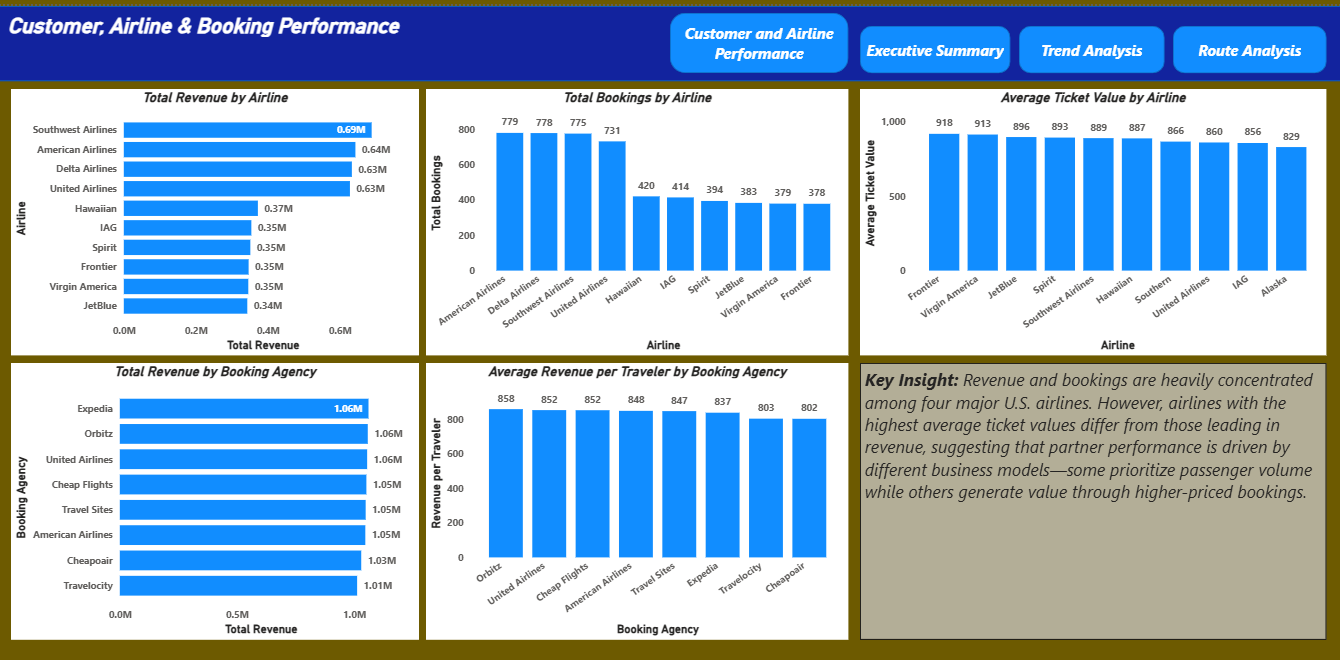

The page's visual inventory and layout, read from the dashboard file:
{"tool":"powerbi","page":{"name":"Customer, Airline and Booking Performance","canvas":[1680,1280],"ordinal":3},"visuals":[{"type":"shape","box":[0,0,1680,94],"z":0},{"type":"textbox","title":"Customer, Airline & Booking Performance","box":[8,9,613,75],"z":1000},{"type":"barChart","fields":{"Category":["Flights.Airline"],"Y":["Measures (2).Total Revenue"]},"box":[16,104,510,333],"z":2000},{"type":"columnChart","fields":{"Category":["Flights.Airline"],"Y":["Measures (2).Total Bookings"]},"box":[535,104,528,333],"z":3000},{"type":"columnChart","fields":{"Category":["Flights.Airline"],"Y":["Measures (2).Average Ticket Value"]},"box":[1078,104,583,333],"z":4000},{"type":"textbox","box":[1078,446,583,346],"z":5000},{"type":"barChart","fields":{"Category":["Flights.Booking Agency"],"Y":["Measures (2).Total Revenue"]},"box":[16,446,510,346],"z":6000},{"type":"columnChart","title":"Average Revenue per Traveler by Booking Agency","fields":{"Category":["Flights.Booking Agency"],"Y":["Measures (2).Revenue per Traveler"]},"box":[535,446,528,346],"z":7000},{"type":"shape","box":[840,9,223,75],"z":11001},{"type":"shape","box":[1078,25,188,59],"z":11002},{"type":"shape","box":[1276,25,182,59],"z":11003},{"type":"shape","box":[1469,25,192,59],"z":11004}]}

Visuals, with their boxes on the page's 1680x1280 design canvas (x1, y1, x2, y2). These are canvas units, not pixel positions in the 1340x660 screenshot, which may show the page scaled, cropped or inside an application window:
shape: (x1=0, y1=0, x2=1680, y2=94)
"Customer, Airline & Booking Performance" textbox: (x1=8, y1=9, x2=621, y2=84)
barChart - Flights.Airline x Measures (2).Total Revenue: (x1=16, y1=104, x2=526, y2=437)
columnChart - Flights.Airline x Measures (2).Total Bookings: (x1=535, y1=104, x2=1063, y2=437)
columnChart - Flights.Airline x Measures (2).Average Ticket Value: (x1=1078, y1=104, x2=1661, y2=437)
textbox: (x1=1078, y1=446, x2=1661, y2=792)
barChart - Flights.Booking Agency x Measures (2).Total Revenue: (x1=16, y1=446, x2=526, y2=792)
"Average Revenue per Traveler by Booking Agency" columnChart: (x1=535, y1=446, x2=1063, y2=792)
shape: (x1=840, y1=9, x2=1063, y2=84)
shape: (x1=1078, y1=25, x2=1266, y2=84)
shape: (x1=1276, y1=25, x2=1458, y2=84)
shape: (x1=1469, y1=25, x2=1661, y2=84)
